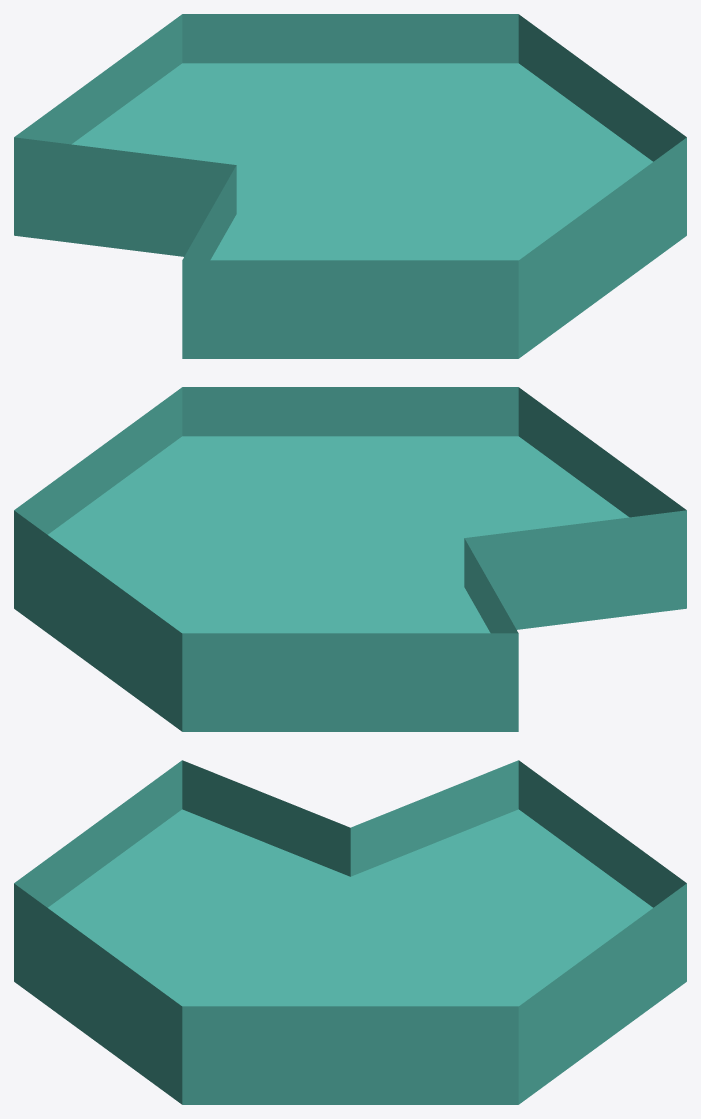
The model's file is lily_small.obj.
The picture shows the model from 3 angles, top to bottom: view 1: azimuth 30°, elevation 25°; view 2: azimuth 150°, elevation 25°; view 3: azimuth 270°, elevation 25°; orthographic projection.
Parts seen in each view (by area): view 1: lily_small; view 2: lily_small; view 3: lily_small.
Part boxes in pixels (x1=…): lily_small: x1=14, y1=14, x2=686, y2=358; lily_small: x1=14, y1=387, x2=686, y2=731; lily_small: x1=14, y1=760, x2=686, y2=1104.
Bounding box in the file's own units: 1.77 × 0.33 × 2.05.
